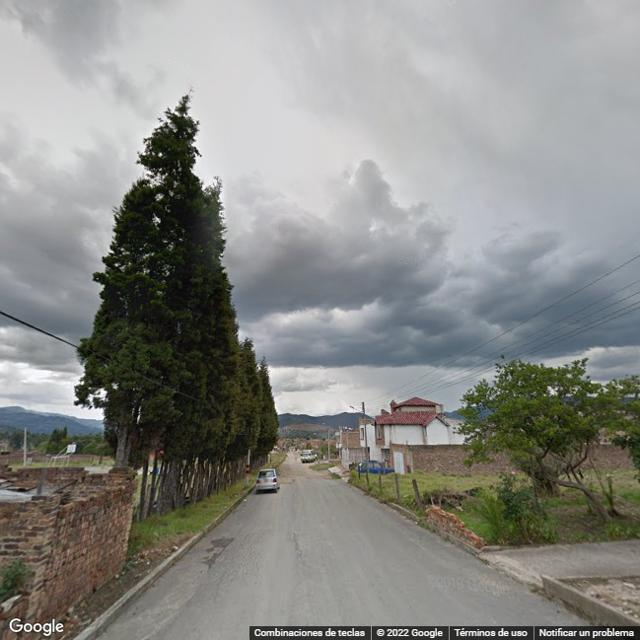D00: (288, 524, 309, 562)
